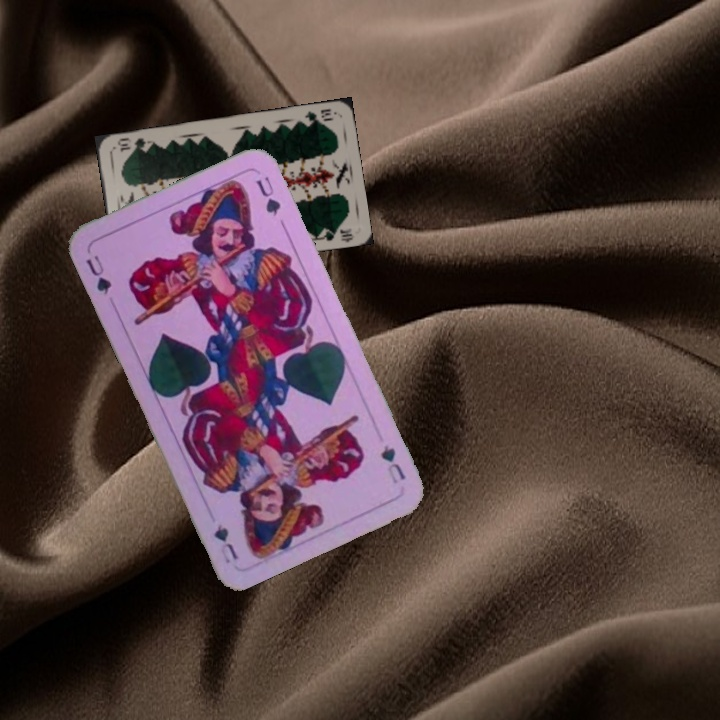G10: (301, 105, 335, 126)
GU: (82, 251, 115, 297), (377, 440, 408, 487)
